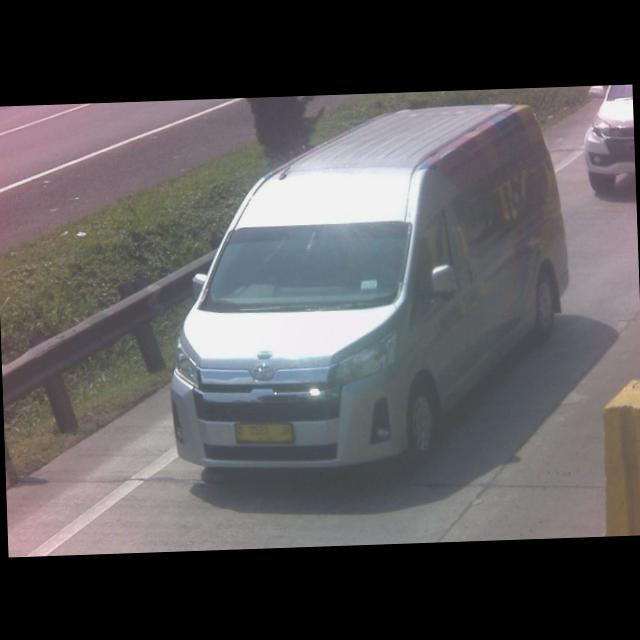plate: (232, 418, 296, 448)
